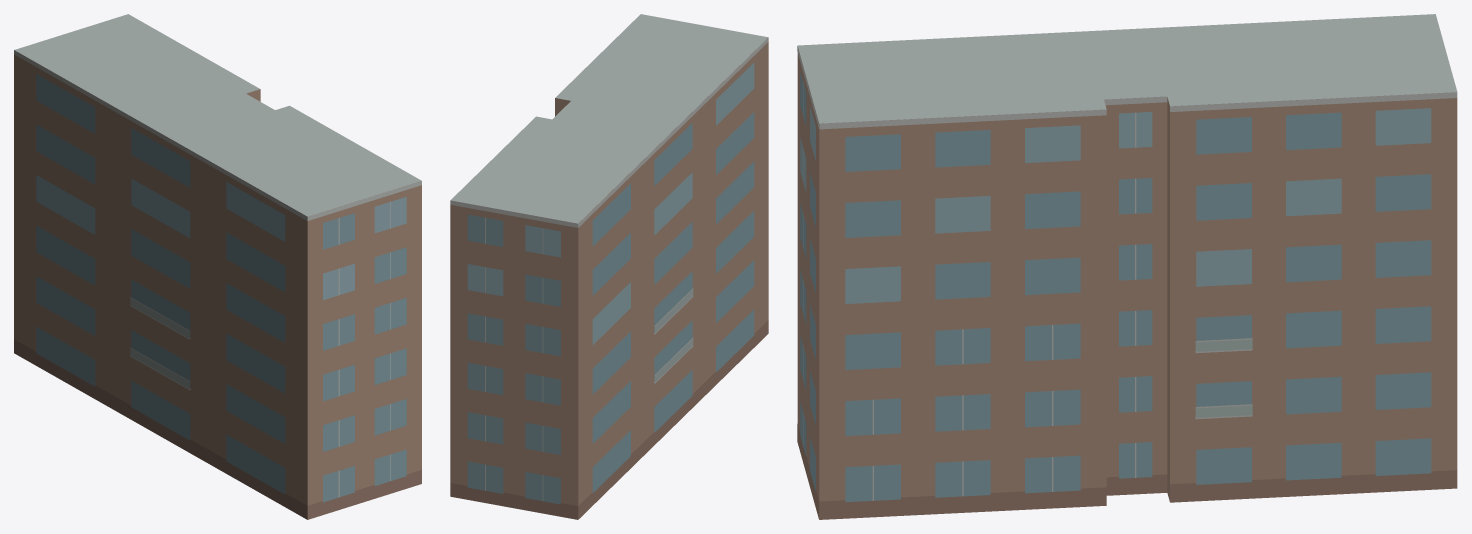
Rendered from survey-upis-32998858.glb.
3 views of the same model, side by side, from view 1: azimuth 30°, elevation 25°; view 2: azimuth 150°, elevation 25°; view 3: azimuth 270°, elevation 25° (orthographic). The views are drawn at different scales.
Visible parts, largest first — view 1: survey-upis-32998858.tmp; view 2: survey-upis-32998858.tmp; view 3: survey-upis-32998858.tmp.
Part boxes in pixels (box(x1,y1,x2,y2)): survey-upis-32998858.tmp: box(14, 14, 421, 519); survey-upis-32998858.tmp: box(450, 14, 768, 519); survey-upis-32998858.tmp: box(797, 14, 1457, 519).
Bounding box in the file's own units: 9.92 × 16.7 × 25.22.
